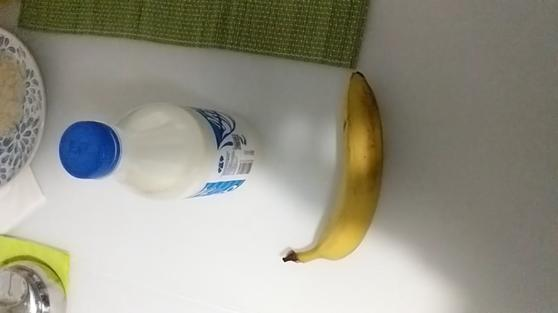banana: (279, 58, 390, 284)
milk: (49, 91, 276, 217)
